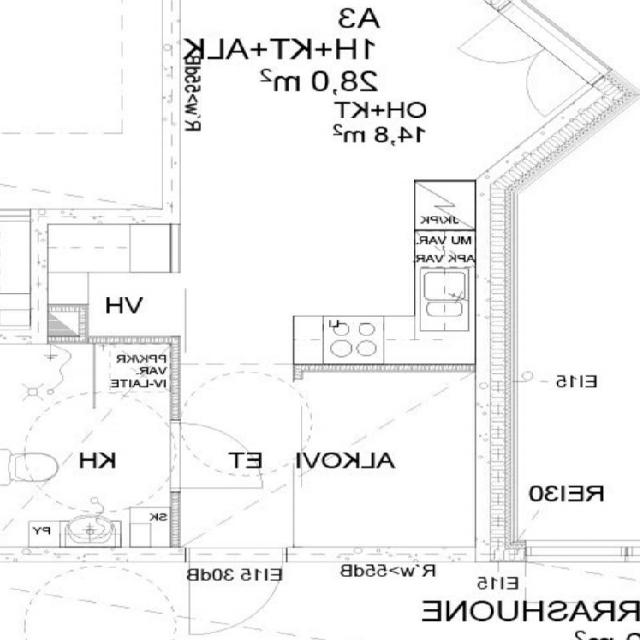door: (502, 32, 610, 117), (459, 0, 566, 82), (190, 547, 283, 636), (171, 422, 262, 488)
